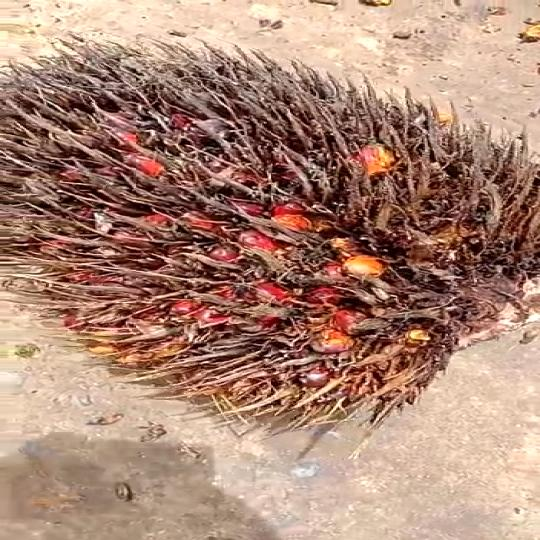terlalu masak: (0, 33, 540, 436)
